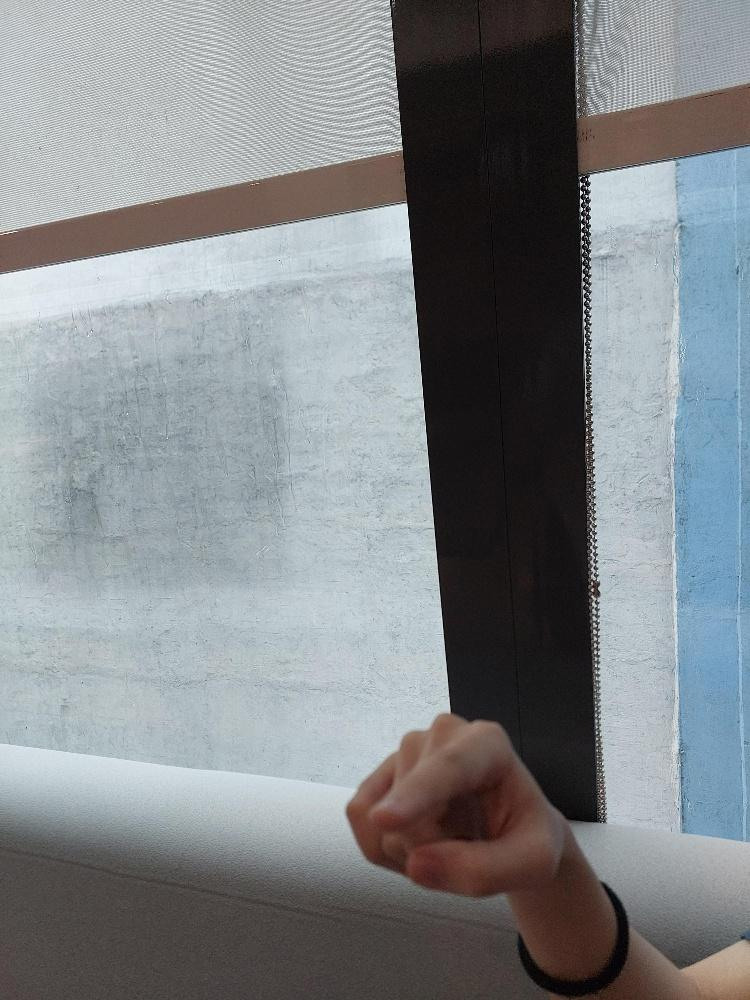z: (344, 711, 567, 901)
